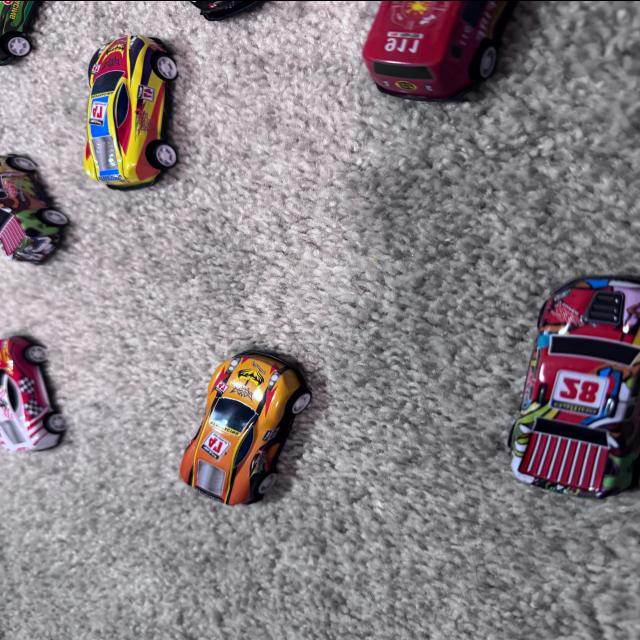Car: (499, 253, 640, 513), (154, 339, 316, 526), (74, 22, 218, 214)
